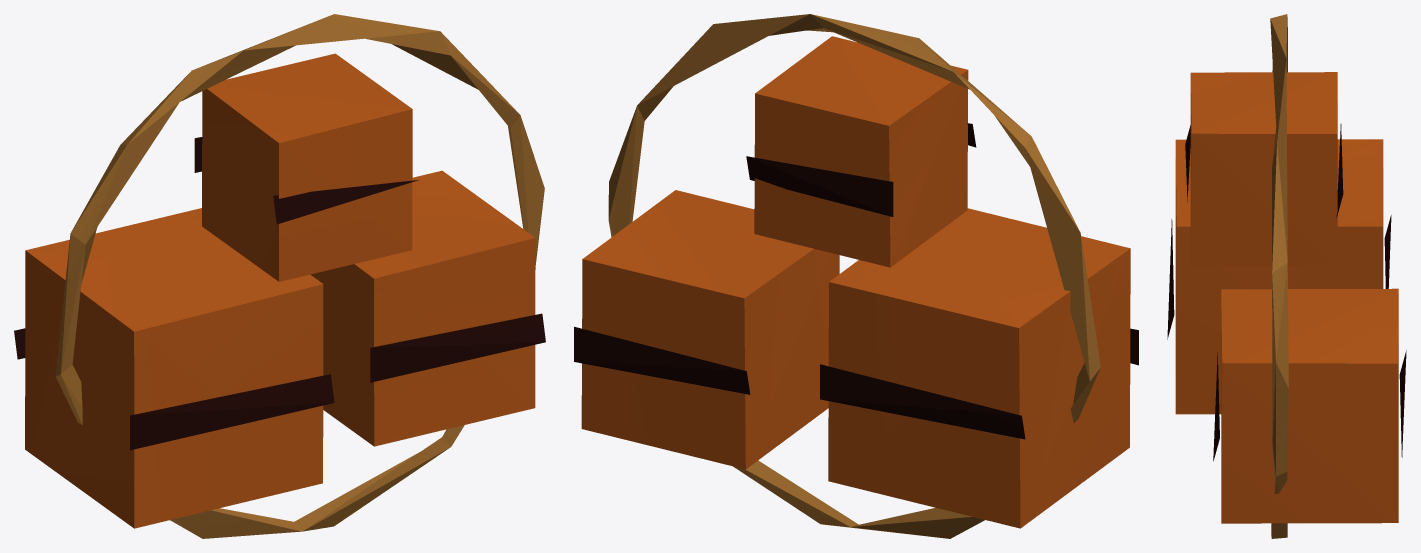
The model's file is upgrade_lashed_cargo_crates.three-web-toon.lod25.glb.
The picture shows the model from 3 angles, left to right: view 1: azimuth 30°, elevation 25°; view 2: azimuth 150°, elevation 25°; view 3: azimuth 270°, elevation 25°; orthographic projection. The views are drawn at different scales.
Visible parts, largest first — view 1: upgrade_lashed_cargo_crates_mesh_lod; view 2: upgrade_lashed_cargo_crates_mesh_lod; view 3: upgrade_lashed_cargo_crates_mesh_lod.
Part boxes in pixels (x1,y1,x2,y2): upgrade_lashed_cargo_crates_mesh_lod: (14,14,545,538); upgrade_lashed_cargo_crates_mesh_lod: (574,14,1138,538); upgrade_lashed_cargo_crates_mesh_lod: (1167,14,1406,538).
Bounding box in the file's own units: 1.75 × 1.75 × 0.7865.
